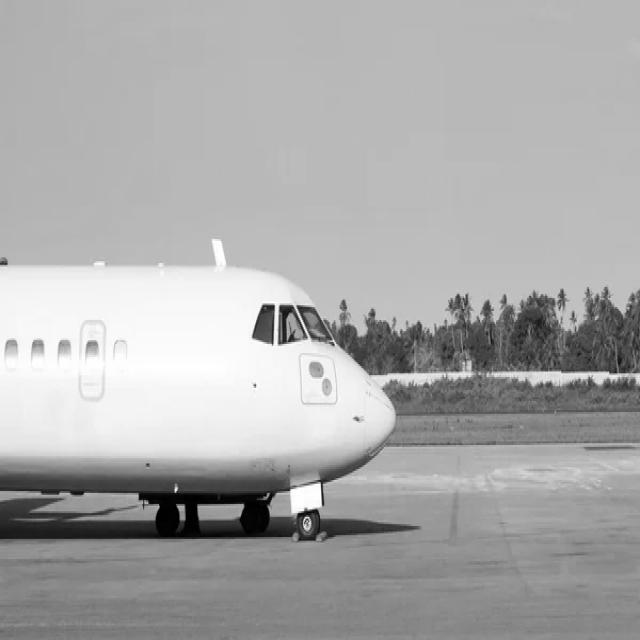Aircraft: (0, 241, 403, 521)
